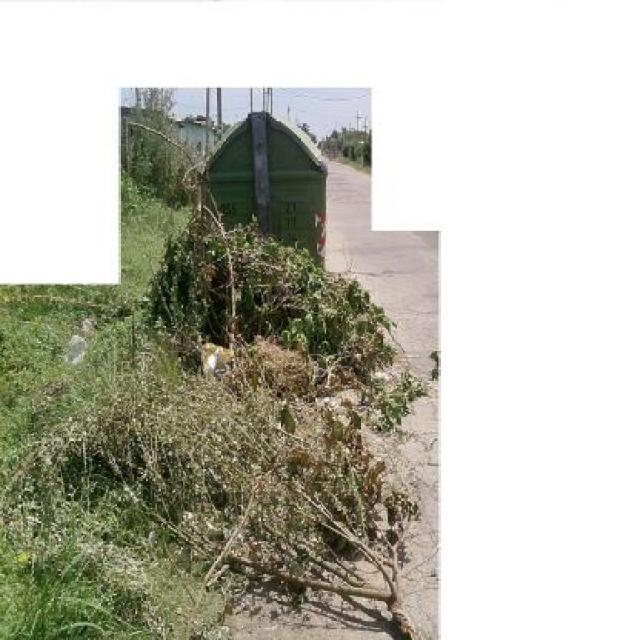garbage: (58, 387, 418, 634), (158, 220, 394, 384)
